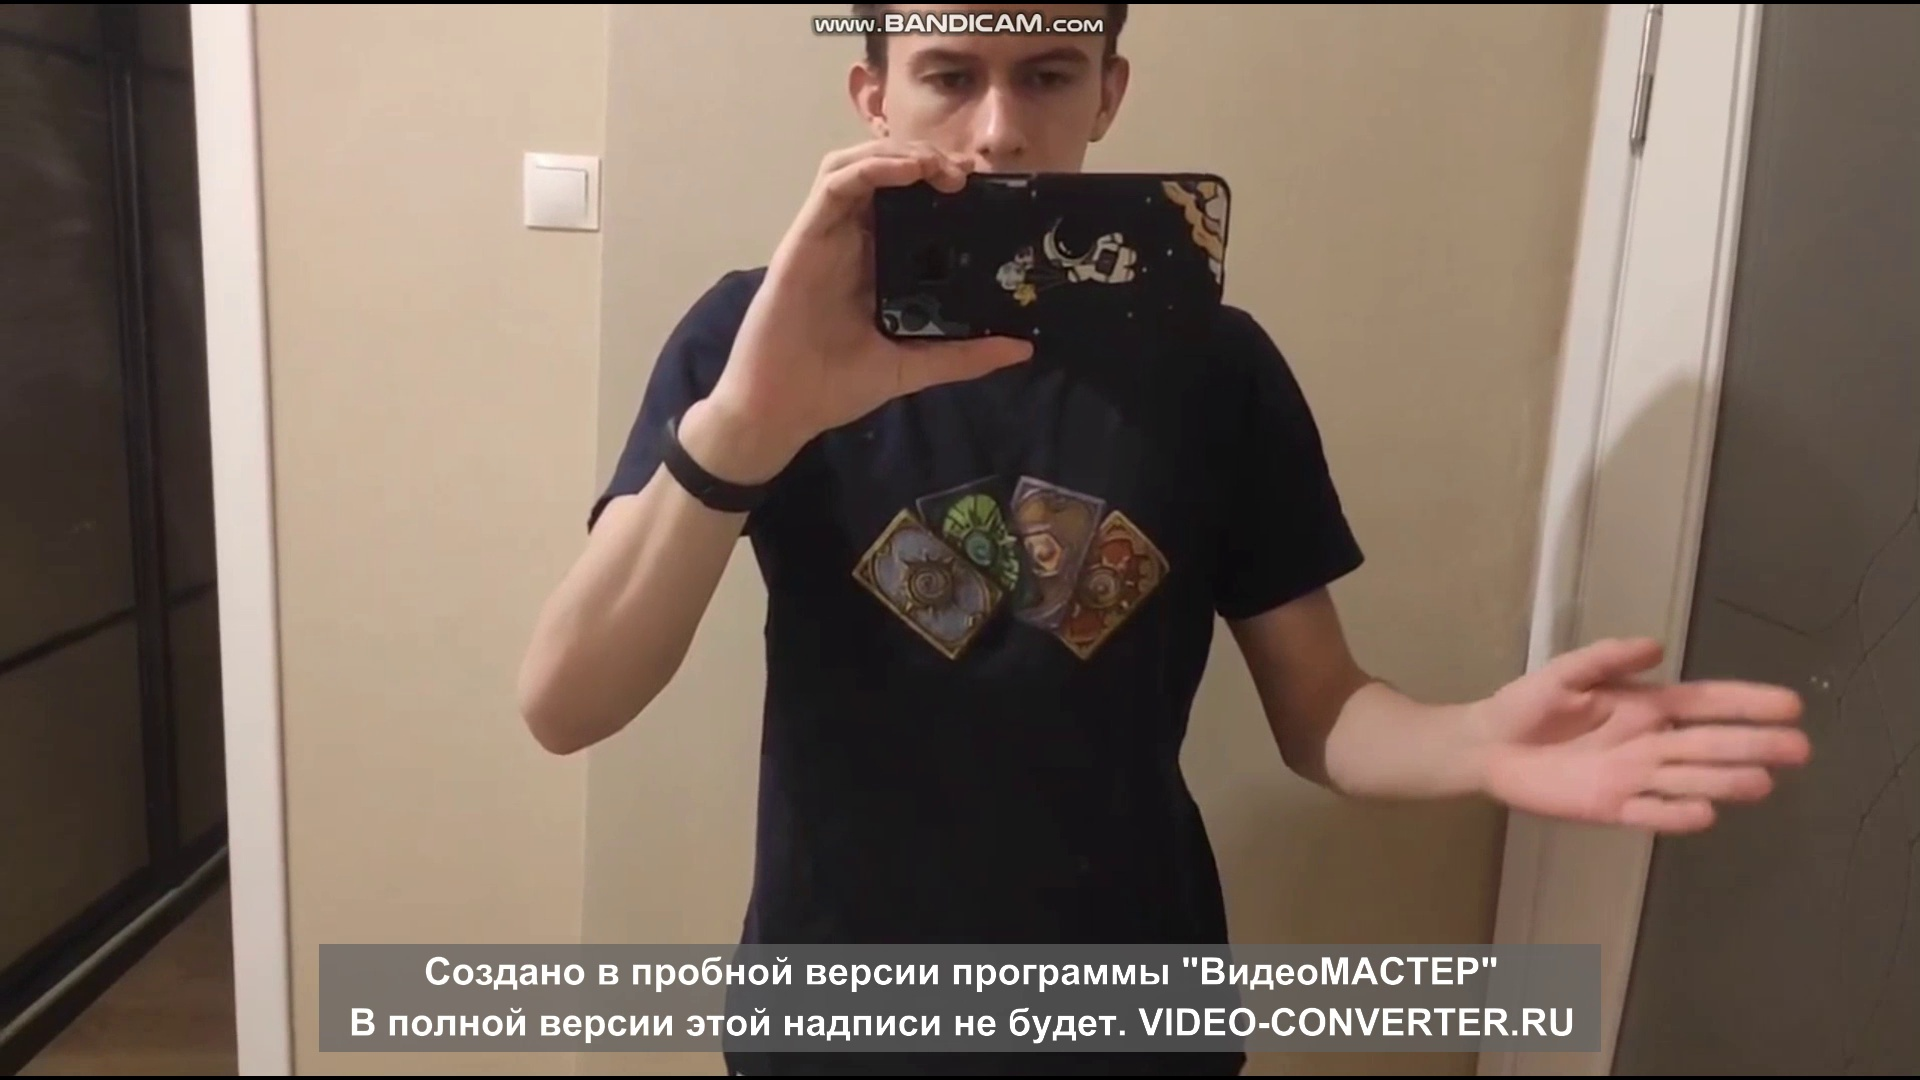Ладонь: (1486, 640, 1812, 829)
